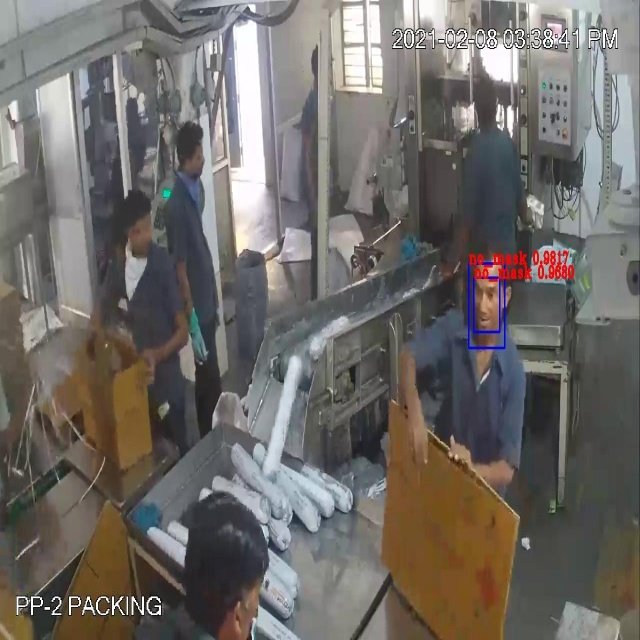Sin_guantes: (441, 426, 525, 501), (395, 332, 439, 472), (131, 318, 192, 387)
